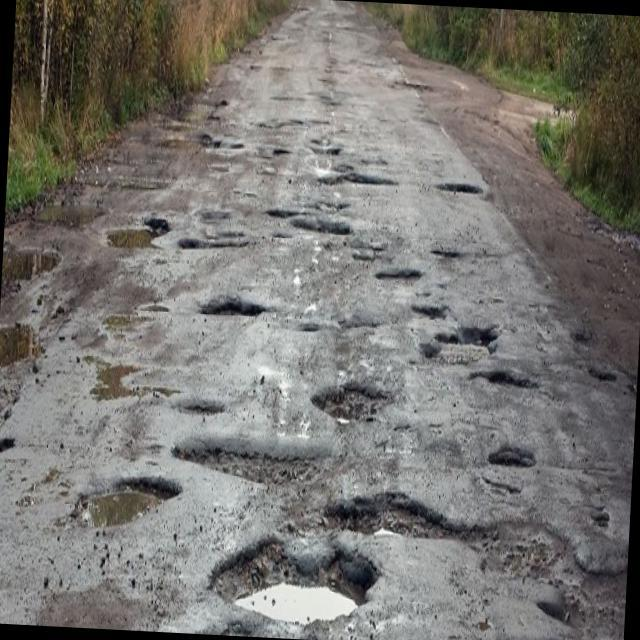Pothole: (325, 472, 631, 640), (212, 532, 380, 626), (83, 442, 159, 543), (82, 344, 164, 434), (419, 308, 504, 374), (190, 285, 285, 344), (311, 364, 391, 432), (0, 327, 65, 393), (178, 388, 248, 441), (470, 356, 534, 408), (342, 164, 419, 207), (96, 217, 168, 261), (286, 204, 358, 243), (411, 232, 490, 267), (1, 240, 70, 280), (178, 224, 249, 262), (586, 358, 632, 412), (436, 168, 494, 208), (483, 434, 542, 469), (177, 121, 240, 152), (374, 269, 428, 290), (260, 142, 302, 162), (571, 327, 606, 349), (295, 143, 341, 151)
